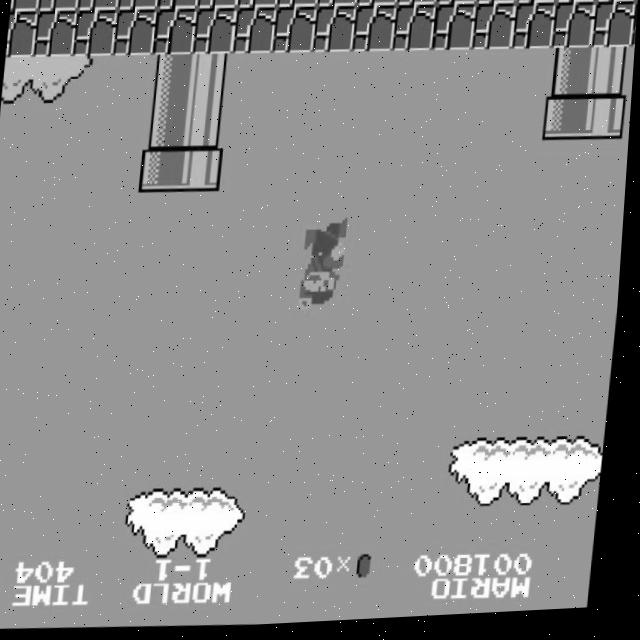0- big_mario: (303, 220, 354, 316)
14- pipe: (587, 52, 633, 101), (184, 100, 230, 149), (188, 54, 234, 103), (148, 55, 194, 104), (144, 101, 190, 149), (548, 53, 593, 101)
15- pipe_head: (543, 98, 589, 147), (583, 98, 629, 146), (180, 146, 226, 194), (140, 147, 186, 195)
17- undestructible_block: (591, 6, 637, 55), (192, 8, 238, 57), (152, 9, 198, 58), (112, 9, 158, 58), (72, 9, 118, 58), (32, 9, 78, 58), (551, 7, 597, 55), (511, 7, 557, 55), (472, 7, 517, 56), (432, 7, 477, 56), (392, 7, 437, 56), (352, 8, 397, 57), (312, 8, 357, 57), (272, 8, 317, 57), (232, 8, 277, 57), (6, 10, 38, 58), (196, 0, 239, 12), (156, 0, 199, 12), (116, 0, 159, 12), (76, 0, 119, 12), (36, 0, 79, 12), (316, 0, 360, 11), (356, 0, 399, 11), (276, 0, 319, 11), (236, 0, 279, 11), (555, 0, 599, 10), (515, 0, 559, 10), (475, 0, 519, 10), (436, 0, 479, 10), (396, 0, 439, 10), (595, 0, 639, 9), (9, 0, 39, 13), (631, 7, 638, 53), (635, 0, 639, 8)
